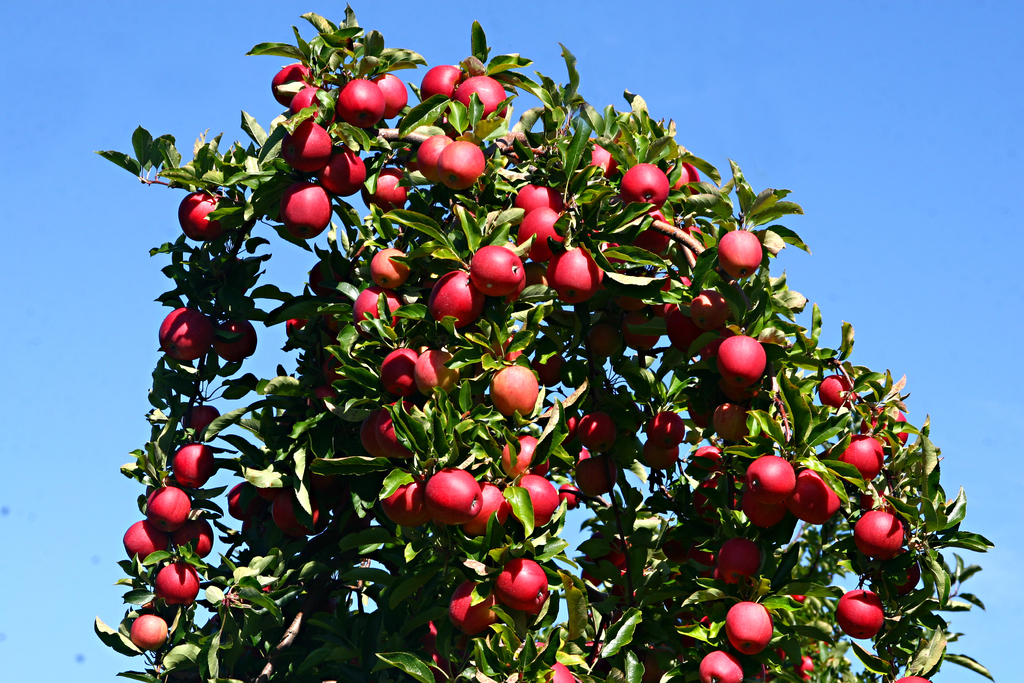Apple: (120, 64, 935, 682), (715, 338, 773, 404)
